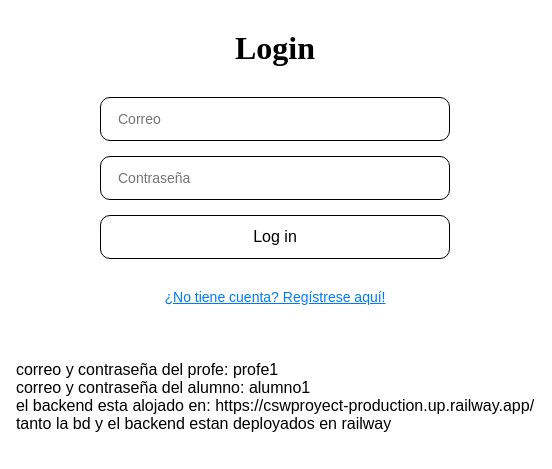
Login › muestra error cuando solo falta la contraseña
The width and height of the screenshot is (552, 469).
Type "test@correo.com" into the field with placeholder "Correo" at (270, 118), box [116,110,424,128]
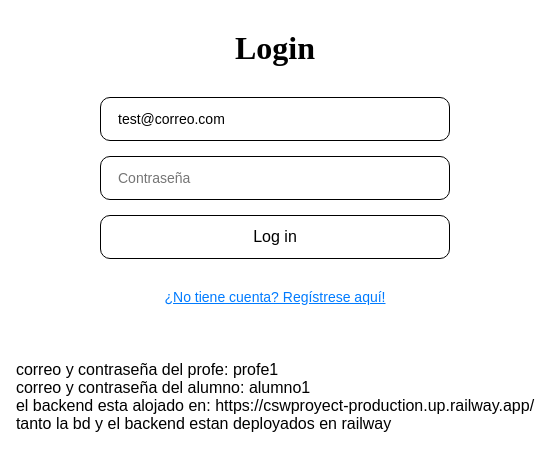
Click the button "Log in" at (275, 236), box [100,214,450,258]
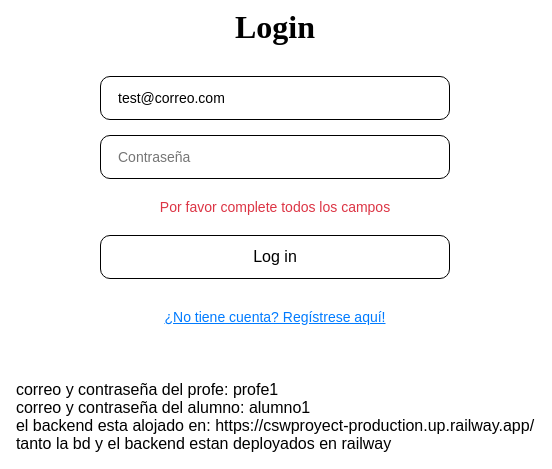
Expected: the text "Por favor complete todos los campos" is shown, [160,199,390,215]
